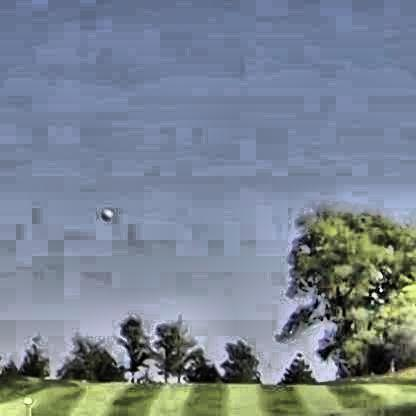golfball: (99, 207, 110, 218)
